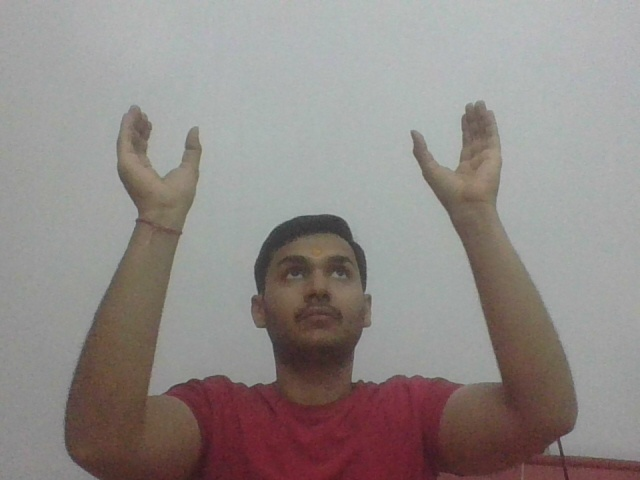U: (404, 96, 506, 209), (108, 101, 207, 214)
